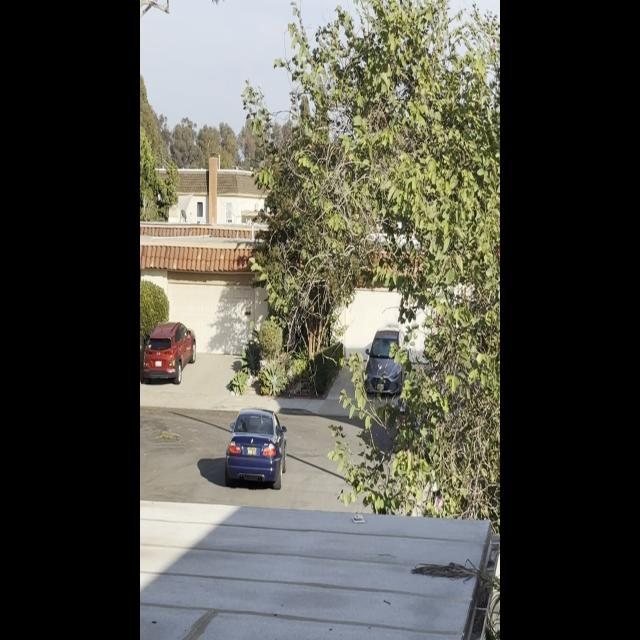Carbeetle: (219, 402, 290, 492)
Civilian: (140, 318, 199, 383), (363, 320, 409, 403)
